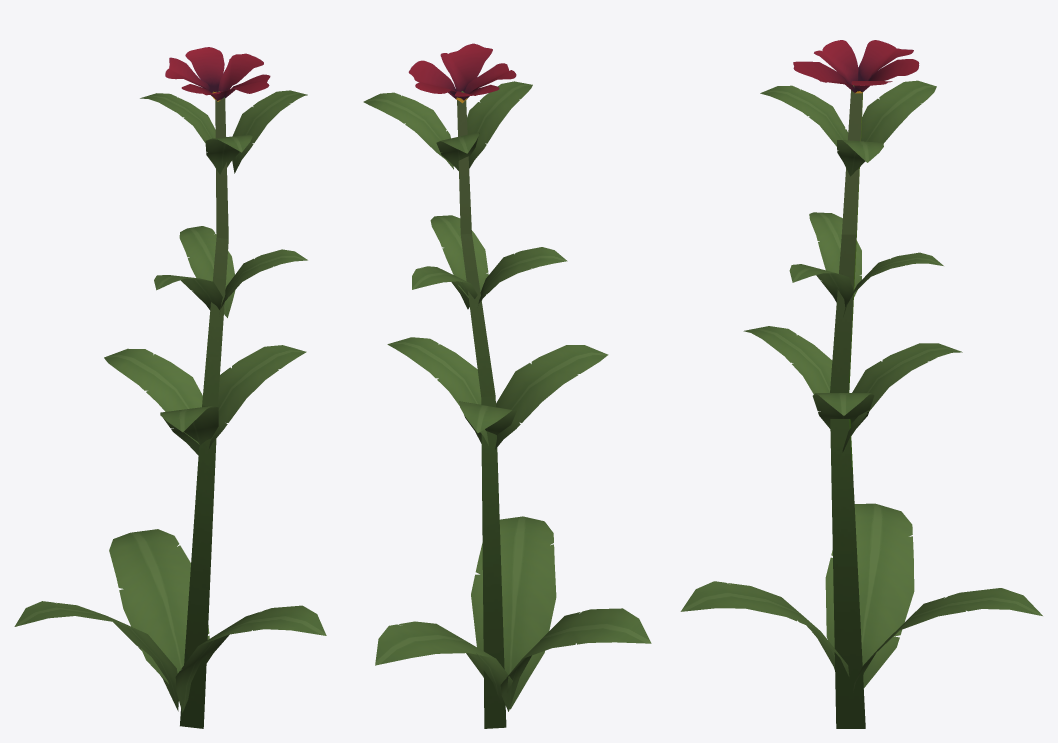
The model's file is Flower_B.fbx.
3 views of the same model, side by side, from view 1: azimuth 30°, elevation 25°; view 2: azimuth 150°, elevation 25°; view 3: azimuth 270°, elevation 25° (orthographic). The views are drawn at different scales.
Parts seen in each view (by area): view 1: Flower_B; view 2: Flower_B; view 3: Flower_B.
Boxes of the visible parts, x1,y1,x2,y2 form: Flower_B: (14, 47, 326, 728); Flower_B: (363, 43, 651, 728); Flower_B: (680, 40, 1042, 728).
Bounding box in the file's own units: 49.34 × 106 × 50.52.
Materials: 1 (1 with a texture image).
